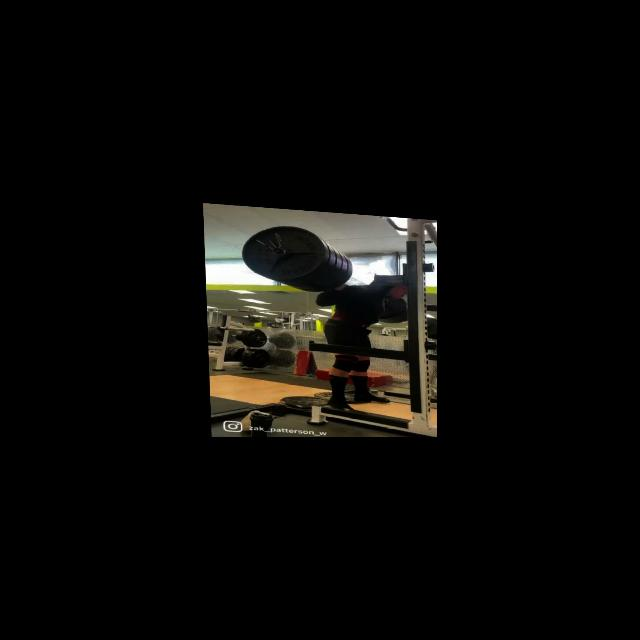barbell: (237, 219, 328, 284)
